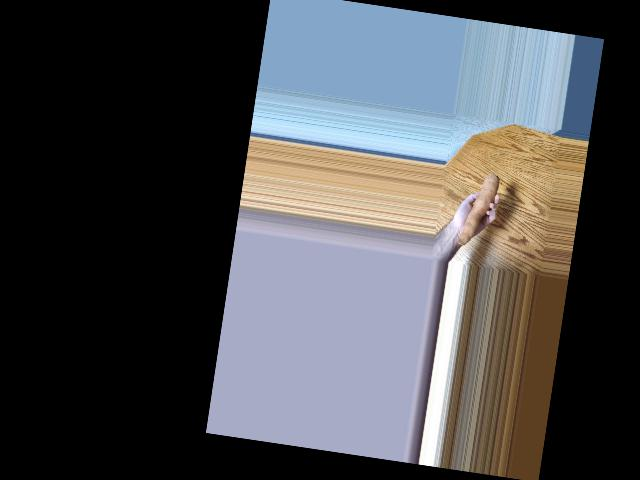sweet_potato: (463, 159, 506, 241)
